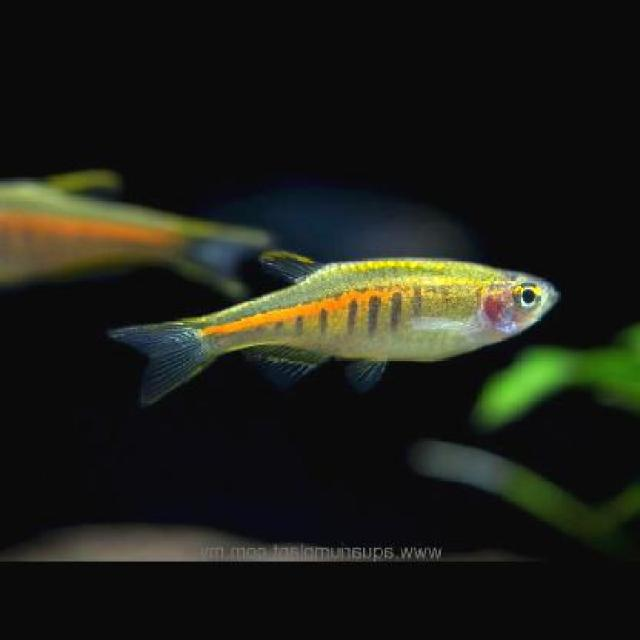ZebraFish: (106, 252, 556, 403)
